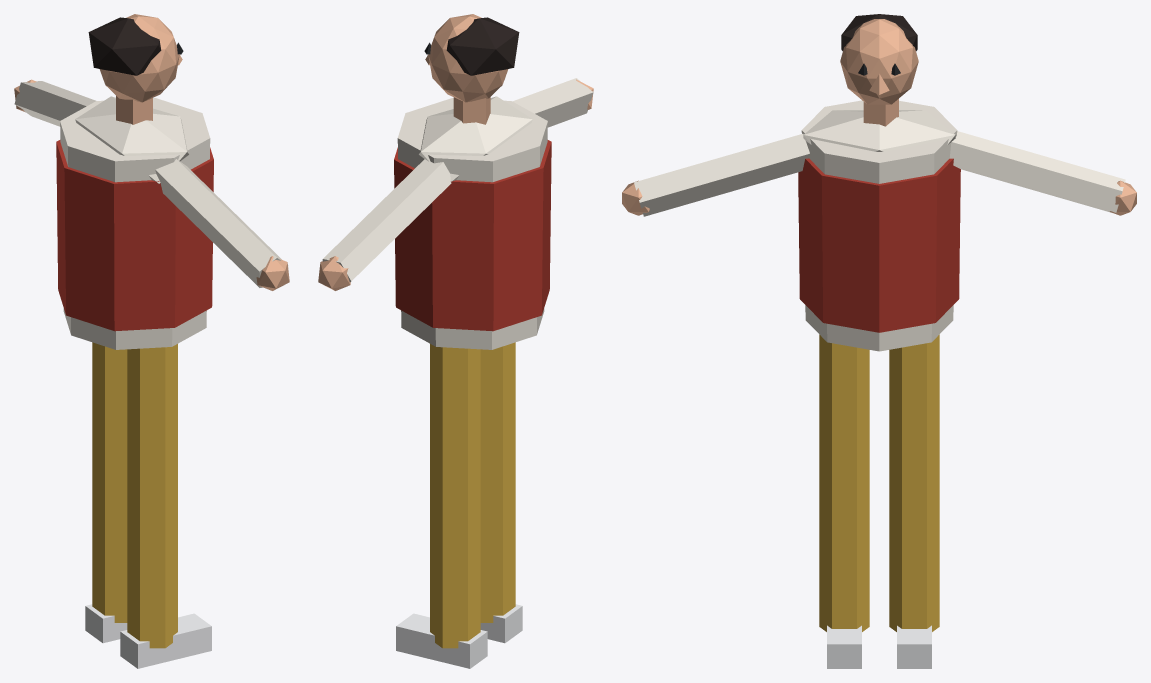
Rendered from dansare_2.glb.
3 views of the same model, side by side, from view 1: azimuth 30°, elevation 25°; view 2: azimuth 150°, elevation 25°; view 3: azimuth 270°, elevation 25° (orthographic).
Parts seen in each view (by area): view 1: dansare_2; view 2: dansare_2; view 3: dansare_2.
Boxes of the visible parts, bbox=[...] form: dansare_2: bbox=[14, 14, 289, 668]; dansare_2: bbox=[318, 14, 593, 668]; dansare_2: bbox=[622, 14, 1136, 668].
Size of the model in its own units: 0.42 by 1.78 by 1.33.
